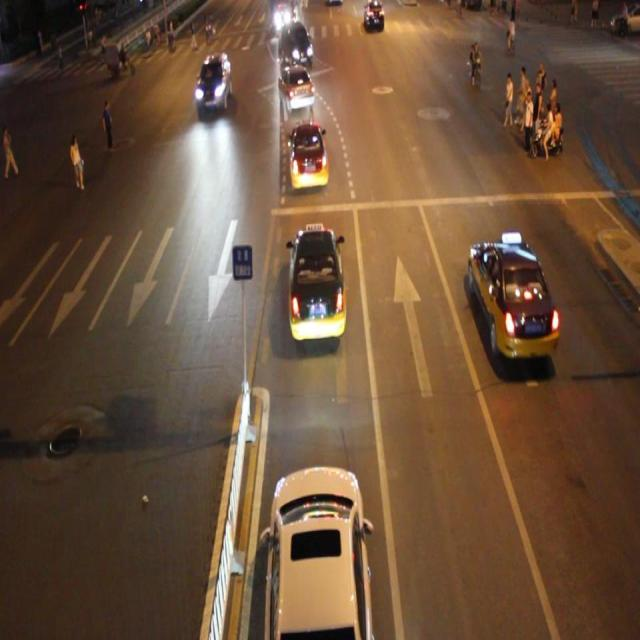car: (263, 462, 373, 640), (468, 238, 556, 357), (287, 225, 346, 343), (290, 119, 329, 190), (195, 50, 232, 110), (278, 67, 314, 113), (280, 23, 313, 68), (364, 1, 383, 31)
